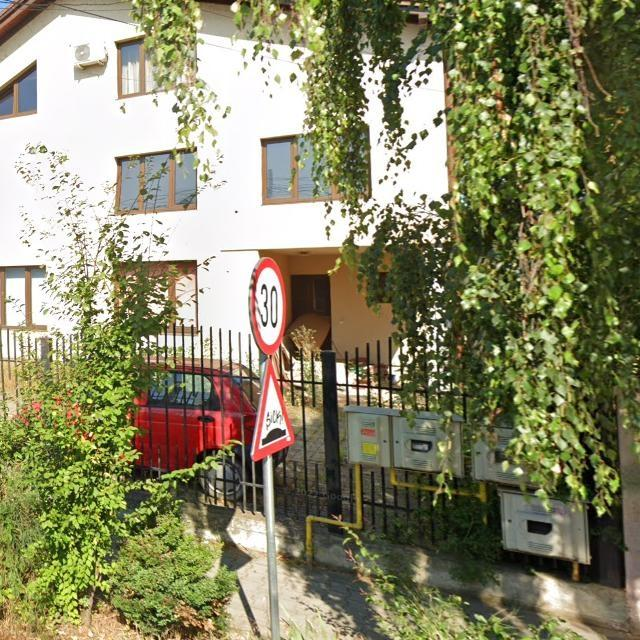forb_speed_over_30: (250, 257, 285, 355)
